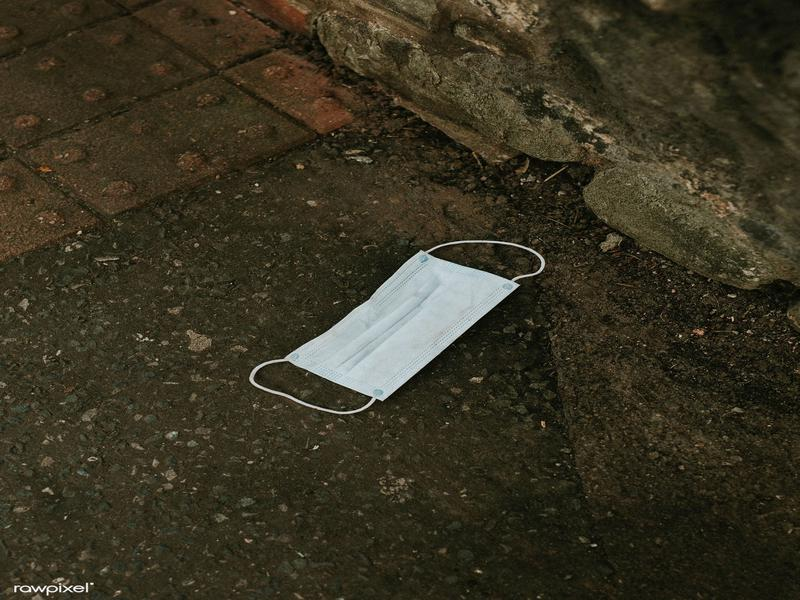mask: (240, 235, 548, 417)
